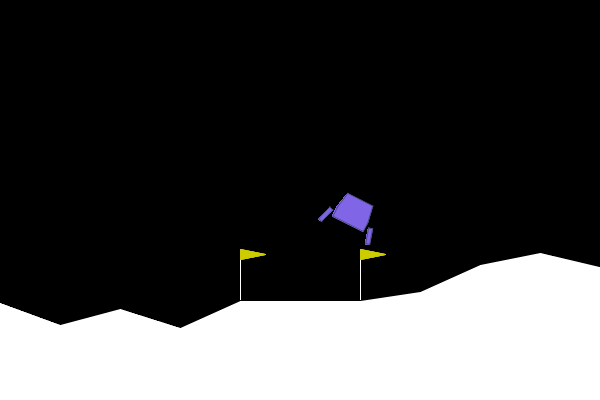lander: (316, 185, 388, 247)
